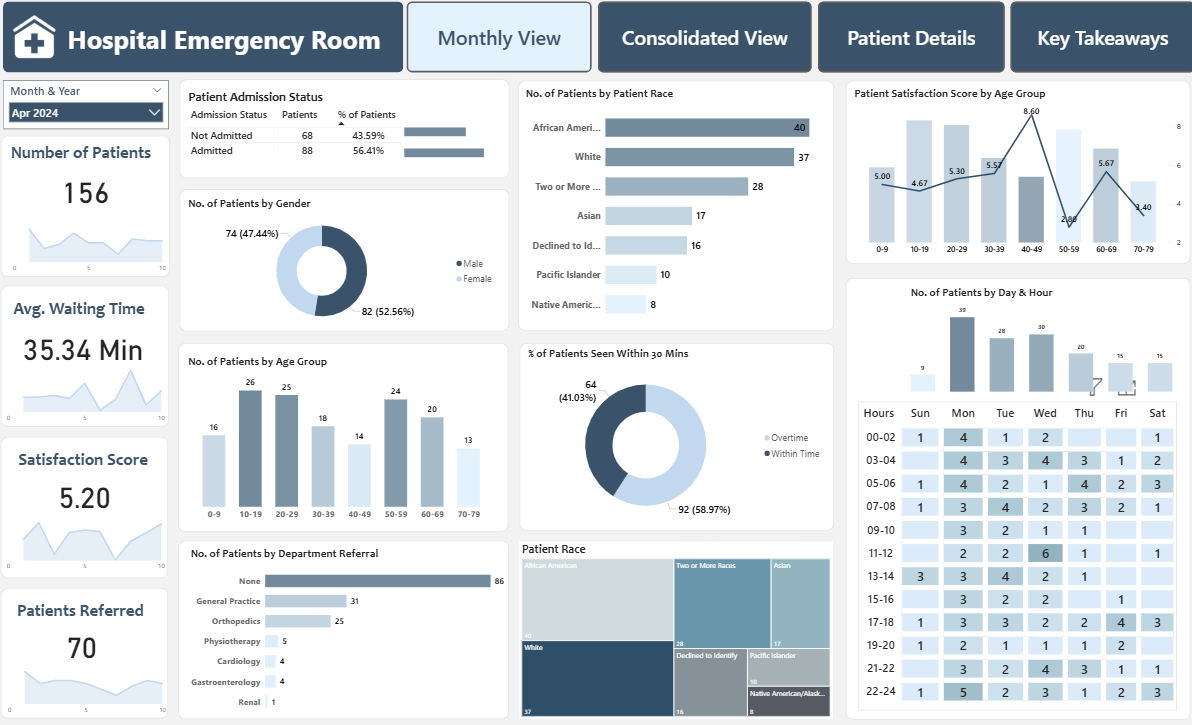

Layout of this report page (visuals, bound fields, positions):
{"tool":"powerbi","page":{"name":"Monthly View","canvas":[2300,1400],"ordinal":0},"visuals":[{"type":"shape","box":[18.8,13.7,761.5,134.9],"z":0},{"type":"textbox","box":[127.6,48.3,636.2,77.6],"z":1000},{"type":"shape","box":[15.4,269.8,322.7,270],"z":2000},{"type":"card","fields":{"Values":["Hospital ER_Data (3).No. of Patients"]},"box":[100.7,338,152,66.6],"z":3000},{"type":"textbox","box":[29,275.7,291.9,64.7],"z":4000},{"type":"areaChart","fields":{"Category":["Calender.Date.Variation.Date Hierarchy.Day"],"Y":["Hospital ER_Data (3).No. of Patients"]},"box":[27.3,423.4,310.7,116.1],"z":5000},{"type":"shape","box":[13.7,554.9,321,269.8],"z":6000},{"type":"card","fields":{"Values":["Hospital ER_Data (3).Avg. Waiting Time"]},"box":[47.8,636.8,247.6,66.6],"z":7000},{"type":"textbox","box":[34.1,572,292,64.9],"z":8000},{"type":"areaChart","fields":{"Category":["Calender.Date.Variation.Date Hierarchy.Day"],"Y":["Avg(Hospital ER_Data (3).Patient Waittime)"]},"box":[15.4,689.8,321,134.9],"z":9000},{"type":"shape","box":[15.4,841.7,319.3,270],"z":10000},{"type":"card","fields":{"Values":["Avg(Hospital ER_Data (3).Patient Satisfaction Score)"]},"box":[97.3,916.8,152,66.6],"z":11000},{"type":"textbox","box":[42.7,860.5,266.3,64.9],"z":12000},{"type":"areaChart","fields":{"Category":["Calender.Date.Variation.Date Hierarchy.Day"],"Y":["Avg(Hospital ER_Data (3).Patient Satisfaction Score)"]},"box":[13.7,976.6,321,129.8],"z":13000},{"type":"shape","box":[15.4,1128.5,319.3,249.3],"z":14000},{"type":"card","fields":{"Values":["Hospital ER_Data (3).No. of Patient Referred"]},"box":[104.1,1202,128,66.6],"z":15000},{"type":"textbox","box":[41,1147.3,266.3,64.9],"z":16000},{"type":"areaChart","fields":{"Category":["Calender.Date.Variation.Date Hierarchy.Day"],"Y":["Hospital ER_Data.No. of Patient Referred"]},"box":[15.5,1253.4,320.7,127.6],"z":17000},{"type":"shape","box":[353.6,161.8,628.6,189.3],"z":18000},{"type":"pivotTable","title":"Patient Admission Status","fields":{"Rows":["Hospital ER_Data.Patient Admission Status"],"Values":["Hospital ER_Data.No. of Patients","Divide(Hospital ER_Data.No. of Patients, ScopedEval(Hospital ER_Data.No. of Patients, [Role.Columns]))"]},"box":[366.1,179.6,589.3,158.9],"z":19000},{"type":"shape","box":[351.8,1039.3,630.4,341.1],"z":20000},{"type":"barChart","fields":{"Y":["Hospital ER_Data.No. of Patients"],"Category":["Hospital ER_Data.Patient Admission Status"]},"box":[778.6,220.7,182.1,117.9],"z":21000},{"type":"shape","box":[351.8,662.5,628.6,360.7],"z":22000},{"type":"clusteredBarChart","fields":{"Y":["Hospital ER_Data.No. of Patients"],"Category":["Hospital ER_Data.Department Referral"]},"box":[371.4,1051.8,608.9,328.6],"z":23000},{"type":"clusteredColumnChart","fields":{"Category":["Hospital ER_Data.Age Group"],"Y":["Hospital ER_Data.No. of Patients"]},"box":[366.1,683.9,594.6,326.8],"z":24000},{"type":"shape","box":[1000.5,662.4,599.3,358.5],"z":25000},{"type":"donutChart","title":"% of Patients Seen Within 30 Mins","fields":{"Y":["Hospital ER_Data.No. of Patients"],"Category":["Hospital ER_Data.Waiting Status"]},"box":[1012.4,671,573.7,350],"z":26000},{"type":"shape","box":[353.4,370.5,628.3,271.5],"z":27000},{"type":"donutChart","title":"No. of Patients by Gender","fields":{"Y":["Hospital ER_Data.No. of Patients"],"Category":["Hospital ER_Data.Patient Gender"]},"box":[365.4,384.1,597.6,257.8],"z":28000},{"type":"shape","box":[998.3,163.8,601.7,477.6],"z":29000},{"type":"clusteredBarChart","fields":{"Y":["Hospital ER_Data.No. of Patients"],"Category":["Hospital ER_Data.Patient Race"]},"box":[1009,175.9,577.1,461],"z":30000},{"type":"shape","box":[1620.7,539.7,656.9,841.4],"z":31000},{"type":"pivotTable","fields":{"Rows":["Hospital ER_Data.Waittime Interval"],"Columns":["Calender.Day"],"Values":["Hospital ER_Data.No. of Patients"]},"box":[1646.6,775.9,605.2,586.2],"z":32000},{"type":"clusteredColumnChart","title":"No. of Patients by Day & Hour","fields":{"Y":["Hospital ER_Data.No. of Patients"],"Category":["Calender.Day"]},"box":[1741.4,555.2,510.3,208.6],"z":33000},{"type":"actionButton","box":[787.1,13.7,351.7,134.9],"z":34000},{"type":"actionButton","box":[1150.7,13.7,406.3,134.9],"z":35000},{"type":"actionButton","box":[1936.1,13.7,351.7,134.9],"z":36000},{"type":"actionButton","box":[1569,13.7,355.1,134.9],"z":37000},{"type":"slicer","fields":{"Values":["Calender.Month & Year"]},"box":[19,163.8,315.5,93.1],"z":38000},{"type":"treemap","title":"Patient Race","fields":{"Group":["Hospital ER_Data.Patient Race"],"Values":["Hospital ER_Data.No. of Patients"]},"box":[1001.7,1041.4,596.6,337.9],"z":39000},{"type":"shape","box":[1620.7,163.8,656.9,350],"z":40000},{"type":"image","box":[29.3,34.5,100,91.4],"z":41000},{"type":"lineClusteredColumnComboChart","title":"Patient Satisfaction Score by Age Group","fields":{"Category":["Hospital ER_Data.Age Group"],"Y":["Hospital ER_Data.No. of Patients"],"Y2":["Avg(Hospital ER_Data.Patient Satisfaction Score)"]},"box":[1632.8,175.9,632.8,331],"z":42000}]}

Visuals, with their boxes in screenshot pixels (x1, y1, x2, y2), scaled from the page's 2300x1400 canvas onto the 1192x725 screenshot:
shape: bbox(10, 7, 404, 77)
textbox: bbox(66, 25, 396, 65)
shape: bbox(8, 140, 175, 280)
card - Hospital ER_Data (3).No. of Patients: bbox(52, 175, 131, 210)
textbox: bbox(15, 143, 166, 176)
areaChart - Calender.Date.Variation.Date Hierarchy.Day x Hospital ER_Data (3).No. of Patients: bbox(14, 219, 175, 279)
shape: bbox(7, 287, 173, 427)
card - Hospital ER_Data (3).Avg. Waiting Time: bbox(25, 330, 153, 364)
textbox: bbox(18, 296, 169, 330)
areaChart - Calender.Date.Variation.Date Hierarchy.Day x Avg(Hospital ER_Data (3).Patient Waittime): bbox(8, 357, 174, 427)
shape: bbox(8, 436, 173, 576)
card - Avg(Hospital ER_Data (3).Patient Satisfaction Score): bbox(50, 475, 129, 509)
textbox: bbox(22, 446, 160, 479)
areaChart - Calender.Date.Variation.Date Hierarchy.Day x Avg(Hospital ER_Data (3).Patient Satisfaction Score): bbox(7, 506, 173, 573)
shape: bbox(8, 584, 173, 714)
card - Hospital ER_Data (3).No. of Patient Referred: bbox(54, 622, 120, 657)
textbox: bbox(21, 594, 159, 628)
areaChart - Calender.Date.Variation.Date Hierarchy.Day x Hospital ER_Data.No. of Patient Referred: bbox(8, 649, 174, 715)
shape: bbox(183, 84, 509, 182)
"Patient Admission Status" pivotTable: bbox(190, 93, 495, 175)
shape: bbox(182, 538, 509, 715)
barChart - Hospital ER_Data.No. of Patients x Hospital ER_Data.Patient Admission Status: bbox(404, 114, 498, 175)
shape: bbox(182, 343, 508, 530)
clusteredBarChart - Hospital ER_Data.No. of Patients x Hospital ER_Data.Department Referral: bbox(192, 545, 508, 715)
clusteredColumnChart - Hospital ER_Data.Age Group x Hospital ER_Data.No. of Patients: bbox(190, 354, 498, 523)
shape: bbox(519, 343, 829, 529)
"% of Patients Seen Within 30 Mins" donutChart: bbox(525, 347, 822, 529)
shape: bbox(183, 192, 509, 332)
"No. of Patients by Gender" donutChart: bbox(189, 199, 499, 332)
shape: bbox(517, 85, 829, 332)
clusteredBarChart - Hospital ER_Data.No. of Patients x Hospital ER_Data.Patient Race: bbox(523, 91, 822, 330)
shape: bbox(840, 279, 1180, 715)
pivotTable - Hospital ER_Data.Waittime Interval x Calender.Day: bbox(853, 402, 1167, 705)
"No. of Patients by Day & Hour" clusteredColumnChart: bbox(902, 288, 1167, 396)
actionButton: bbox(408, 7, 590, 77)
actionButton: bbox(596, 7, 807, 77)
actionButton: bbox(1003, 7, 1186, 77)
actionButton: bbox(813, 7, 997, 77)
slicer - Calender.Month & Year: bbox(10, 85, 173, 133)
"Patient Race" treemap: bbox(519, 539, 828, 714)
shape: bbox(840, 85, 1180, 266)
image: bbox(15, 18, 67, 65)
"Patient Satisfaction Score by Age Group" lineClusteredColumnComboChart: bbox(846, 91, 1174, 263)
